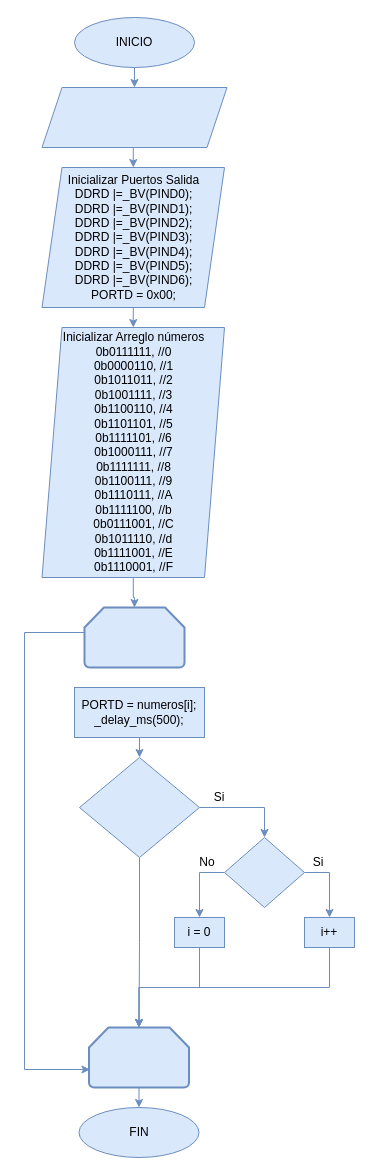
The diagram is 372 pixels wide and 1175 high, and some of its shapes have lost their labels. The shapes that lost their labels are listed below. From the top down, each one's centre as x and y in pixels, then its label:
At point 134,117: "Inicializar Puertos Entrada DDRB &= ~_BV(BTN1) PORTB |= _BV(BTN1);".
At point 134,637: "LOOP".
At point 139,807: "Si el botón está apagado".
At point 264,872: "Si i < 15".
